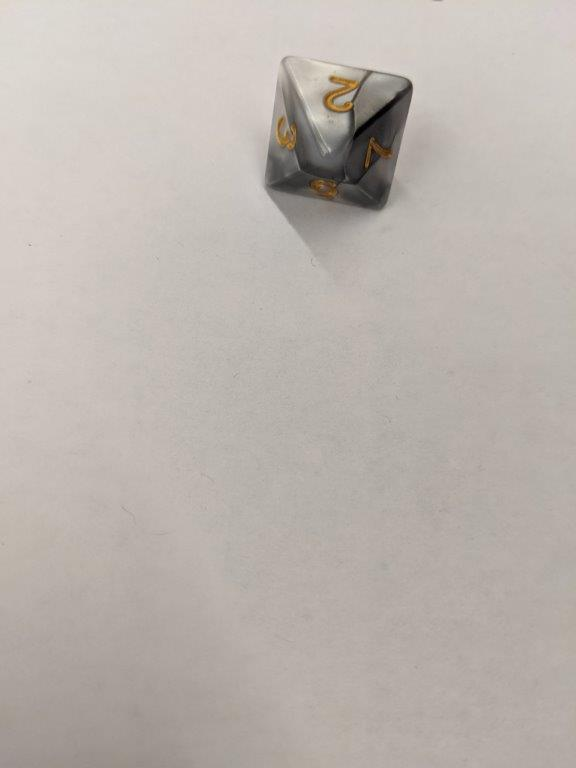d8-2: (262, 55, 414, 211)
